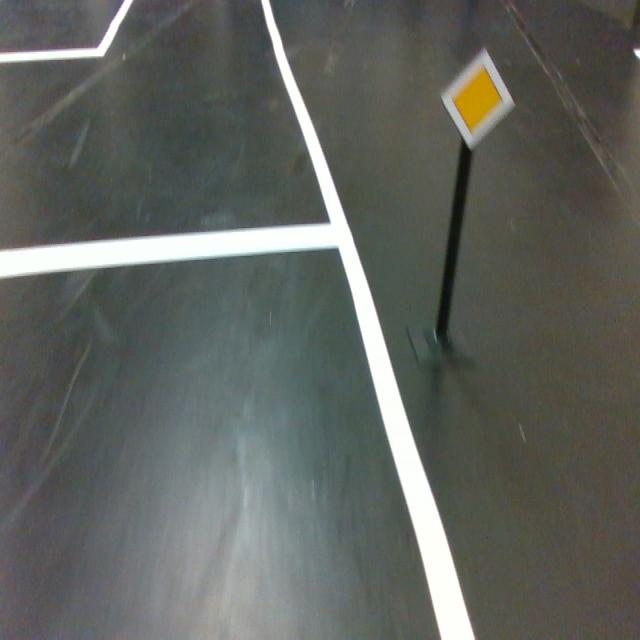priority-sign: (439, 44, 517, 152)
